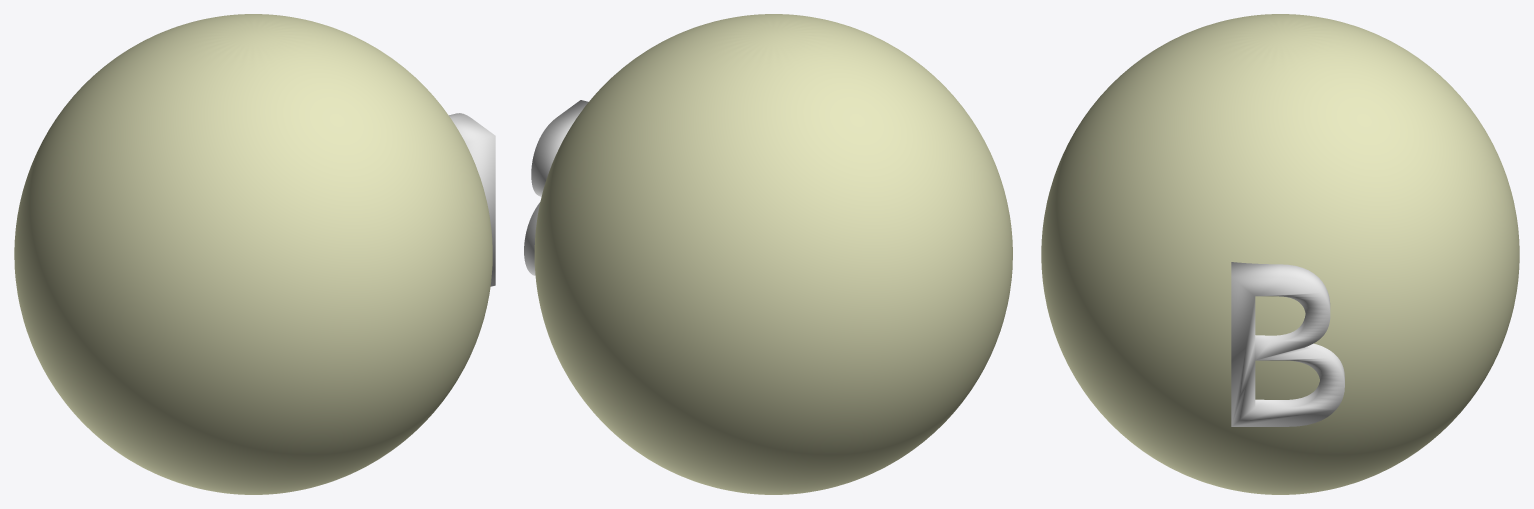
The model's file is Boron.fbx.
The picture shows the model from 3 angles, left to right: view 1: azimuth 30°, elevation 25°; view 2: azimuth 150°, elevation 25°; view 3: azimuth 270°, elevation 25°; orthographic projection.
Visible parts, largest first — view 1: Sphere, Text; view 2: Sphere, Text; view 3: Sphere, Text.
Boxes of the visible parts, x1,y1,x2,y2 form: Sphere: [14, 14, 492, 494]; Text: [449, 113, 495, 286]; Sphere: [534, 14, 1012, 494]; Text: [524, 100, 588, 275]; Sphere: [1041, 14, 1519, 494]; Text: [1231, 262, 1344, 426].
Size of the model in its own units: 202 by 200 by 197.
